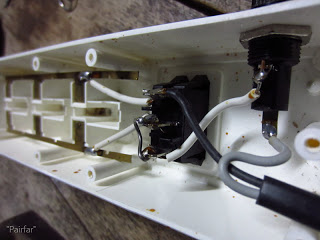Three_eye_plug: (1, 1, 320, 240)
